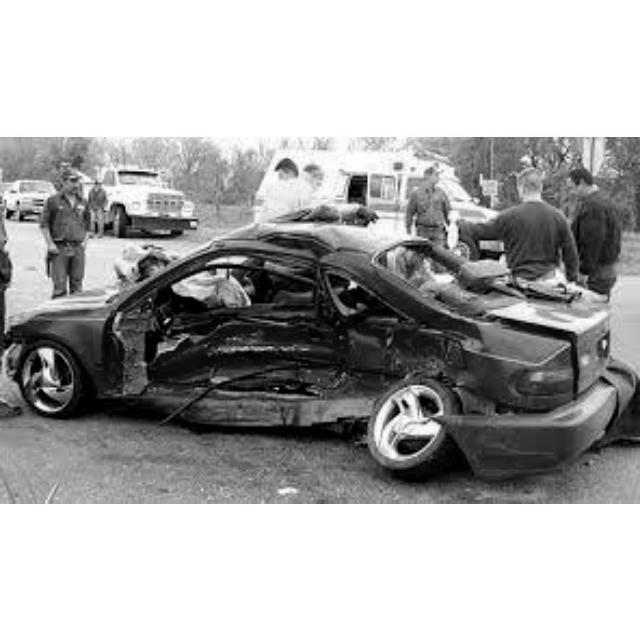Rear-windscreen-Damage: (381, 233, 502, 291)
doorouter-dent: (119, 290, 311, 411), (332, 281, 433, 395)
rear-bumper-dent: (474, 391, 627, 471)
roof-dent: (219, 220, 359, 248)
